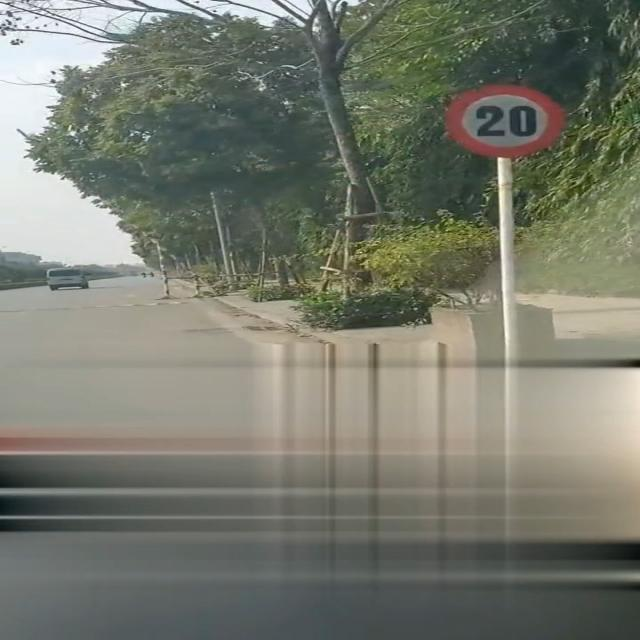127-toc-do-toi-da-20: (444, 83, 564, 156)
